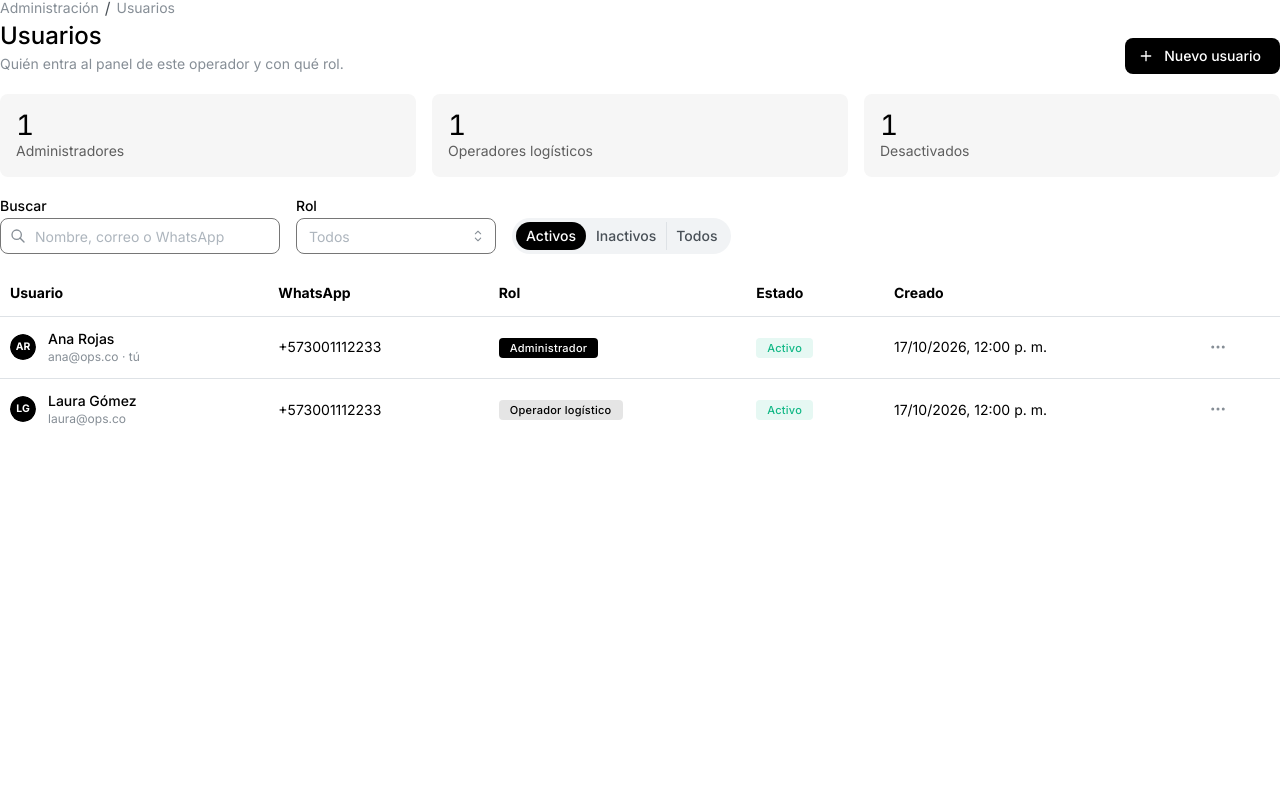
Test case: Usuarios del panel (RF-02, RF-24, RF-25) › editar el correo avisa que el usuario debe confirmarlo
Click the button named "Acciones de Laura Gómez".
click(1218, 409)  # box [1204,395,1232,423]
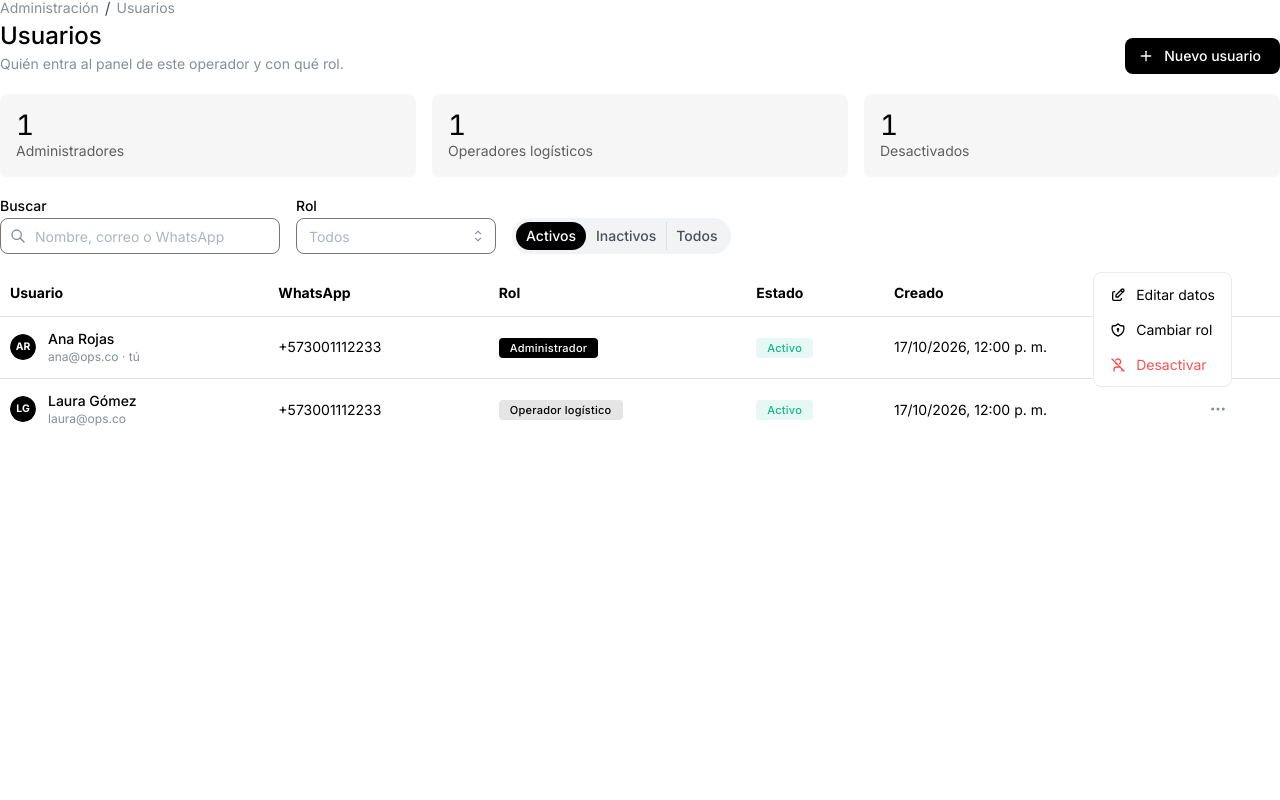
Click the menu item "Editar datos".
click(1163, 295)  # box [1098,277,1227,312]
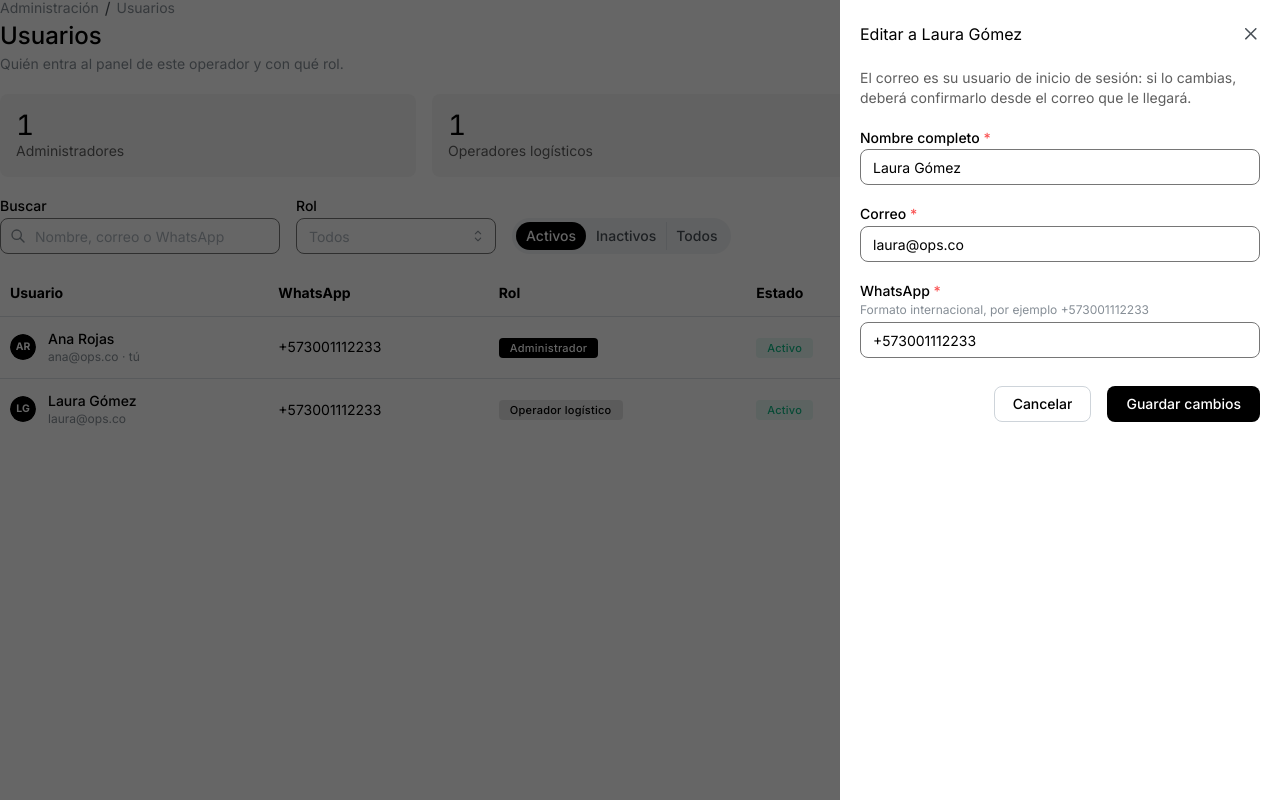
Replace the text in the field labelled "Correo *" with "laura.g@ops.co" at (1060,244), box [860,226,1260,262]
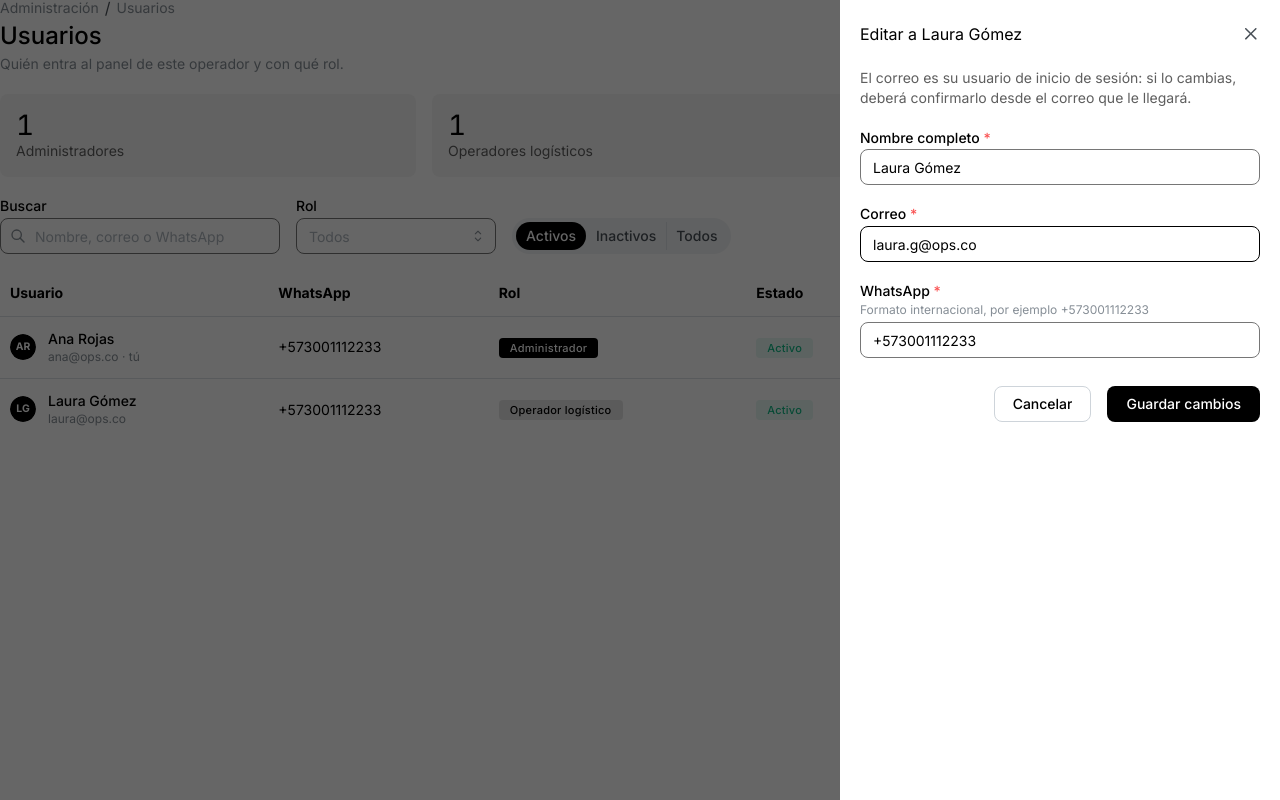
Click the button "Guardar cambios".
click(1184, 404)  # box [1108,386,1260,422]
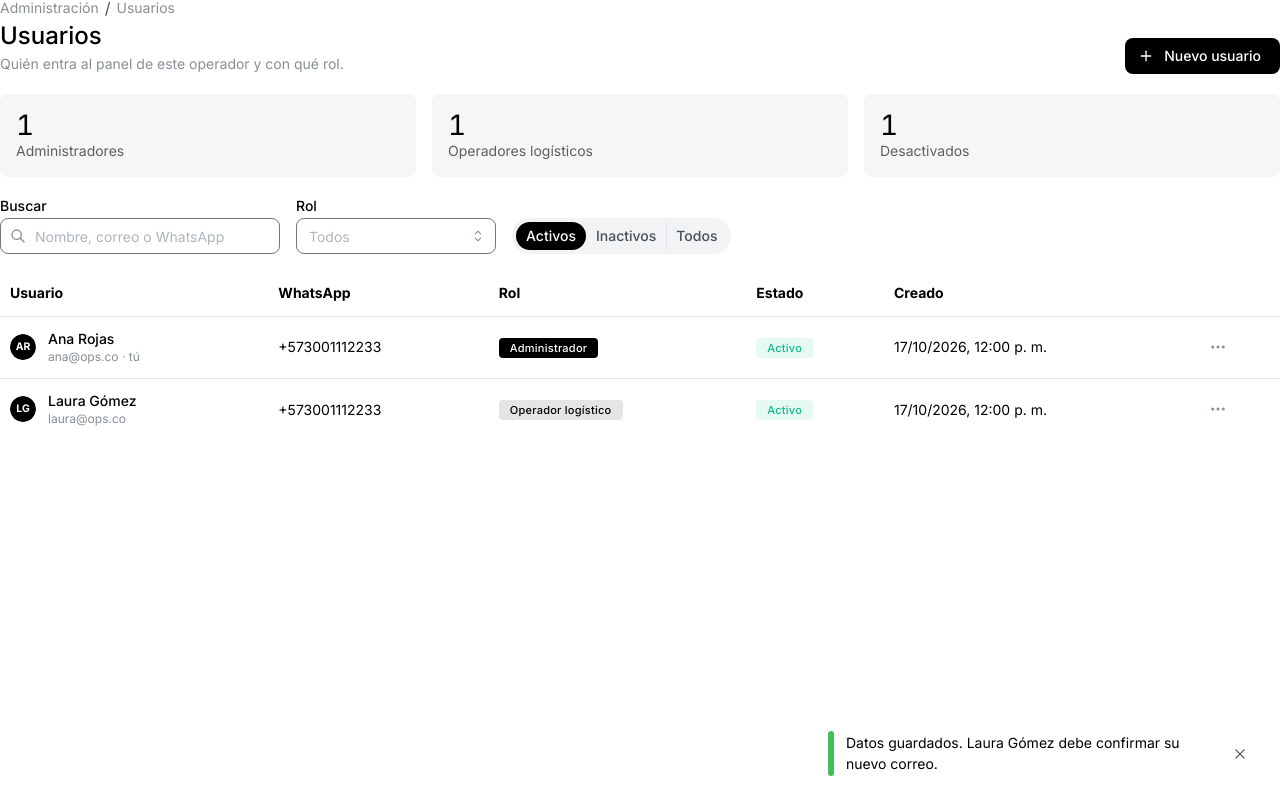
Expected: the text "Datos guardados. Laura Gómez debe confirmar su nuevo correo." is shown, [846,733,1216,774]
